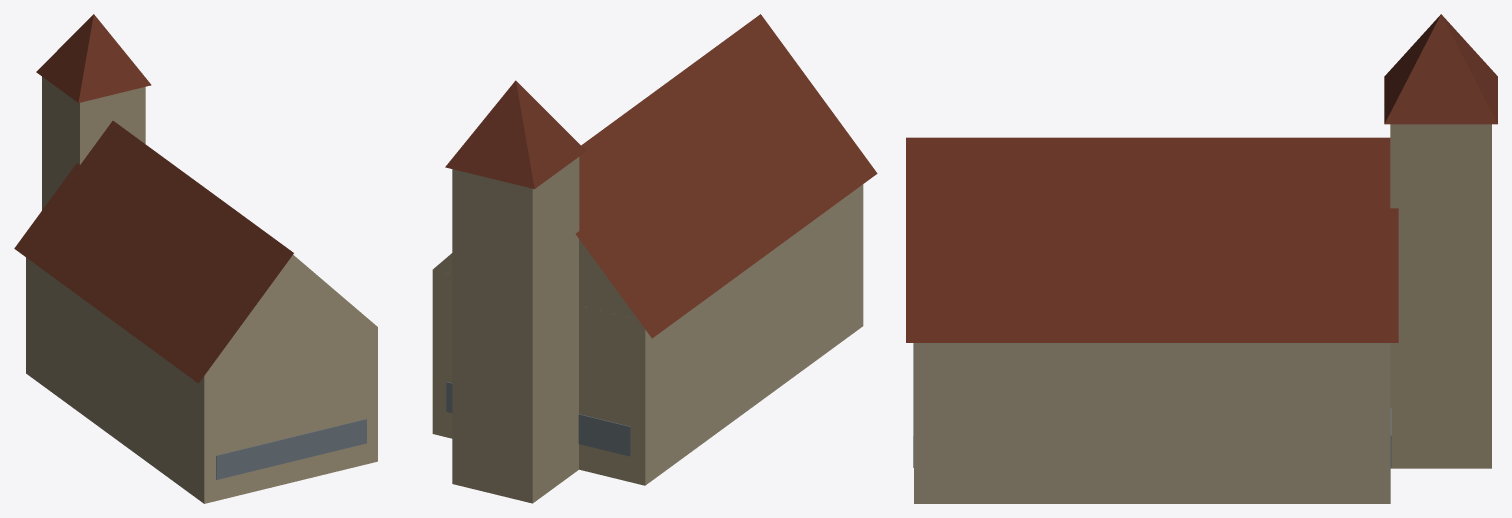
The model's file is village-chapel.zfix-v16.lod2.glb.
3 renders of one model, left to right at view 1: azimuth 30°, elevation 25°; view 2: azimuth 150°, elevation 25°; view 3: azimuth 270°, elevation 25°, orthographic. The views are drawn at different scales.
Visible parts, largest first — view 1: village-chapel; view 2: village-chapel; view 3: village-chapel.
Part boxes in pixels (bbox=[...]): village-chapel: bbox=[14, 14, 377, 503]; village-chapel: bbox=[432, 14, 877, 503]; village-chapel: bbox=[906, 14, 1497, 503].
Size of the model in its own units: 9.9 by 16.06 by 19.87.
